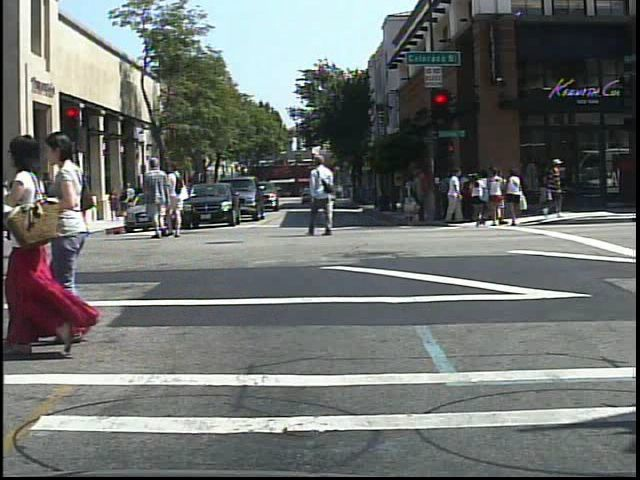person: (0, 129, 91, 364), (45, 121, 129, 349), (307, 151, 342, 242), (144, 155, 177, 242), (38, 167, 65, 244), (70, 168, 98, 242), (540, 154, 572, 218), (169, 160, 191, 240), (469, 171, 489, 231)
